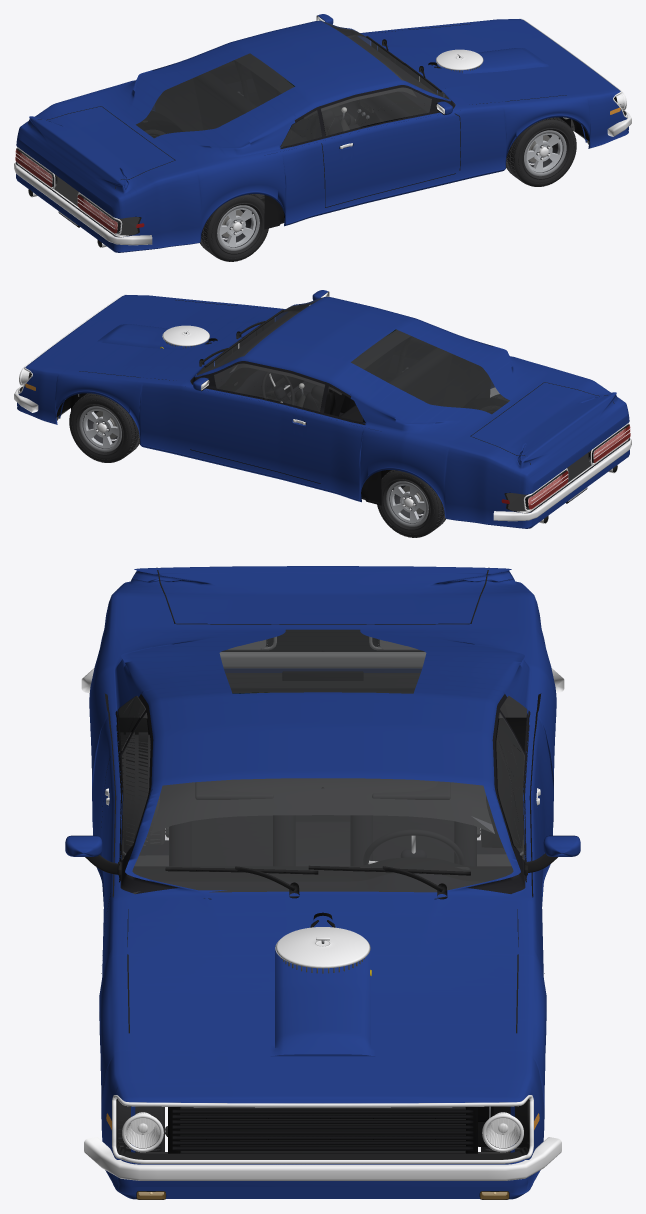
Rendered from muscle_studio.glb.
3 renders of one model, top to bottom at view 1: azimuth 30°, elevation 25°; view 2: azimuth 150°, elevation 25°; view 3: azimuth 270°, elevation 25°, orthographic. The views are drawn at different scales.
Visible parts, largest first — view 1: body, hood, wheel_fr, wheel_rr, bay, lamp_tail, under; view 2: body, hood, wheel_fl, wheel_rl, bay, lamp_tail, under; view 3: body, hood, bay, under, wheel_rr, lamp_head, wheel_fr.
Boxes of the visible parts, bbox=[...] form: body: bbox=[14, 14, 631, 252]; hood: bbox=[368, 21, 613, 105]; wheel_fr: bbox=[506, 117, 576, 186]; wheel_rr: bbox=[200, 194, 268, 261]; bay: bbox=[370, 40, 587, 142]; lamp_tail: bbox=[15, 149, 144, 233]; under: bbox=[52, 121, 589, 235]; body: bbox=[14, 290, 631, 528]; hood: bbox=[32, 297, 277, 381]; wheel_fl: bbox=[69, 393, 139, 462]; wheel_rl: bbox=[377, 470, 445, 537]; bay: bbox=[58, 317, 275, 418]; lamp_tail: bbox=[501, 425, 630, 509]; under: bbox=[56, 396, 593, 511]; body: bbox=[65, 566, 580, 1199]; hood: bbox=[127, 898, 518, 1095]; bay: bbox=[131, 912, 514, 1153]; under: bbox=[119, 673, 526, 1136]; wheel_rr: bbox=[120, 732, 164, 845]; lamp_head: bbox=[126, 1118, 519, 1147]; wheel_fr: bbox=[118, 1100, 164, 1152].
Bounding box in the file's own units: 5.05 × 1.25 × 2.16.
